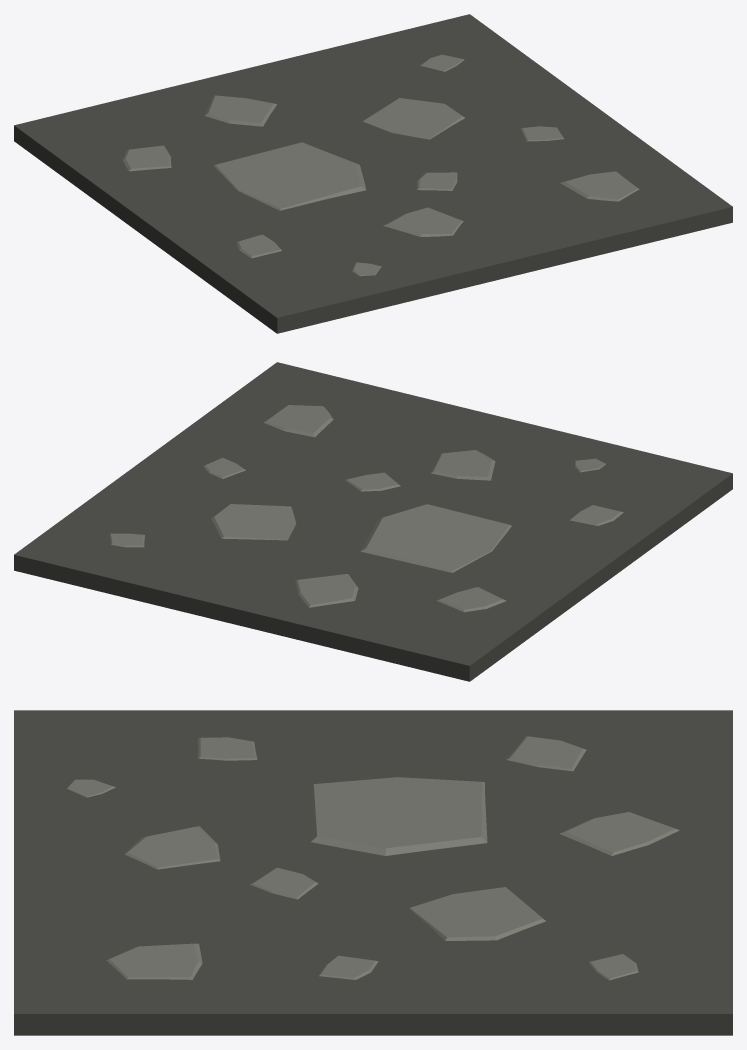
File: Floor_4.fbx
The picture shows the model from 3 angles, top to bottom: view 1: azimuth 30°, elevation 25°; view 2: azimuth 150°, elevation 25°; view 3: azimuth 270°, elevation 25°; orthographic projection. The views are drawn at different scales.
Parts seen in each view (by area): view 1: Floor_4; view 2: Floor_4; view 3: Floor_4.
Part boxes in pixels (x1,y1,x2,y2): Floor_4: [14, 14, 732, 333]; Floor_4: [14, 362, 732, 681]; Floor_4: [14, 710, 732, 1035].
Bounding box in the file's own units: 300 × 12.07 × 300.
